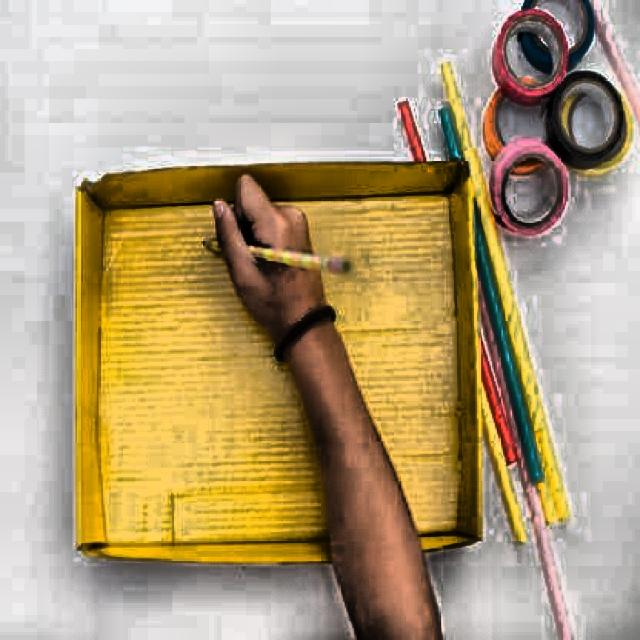Cardbox: (50, 138, 508, 574)
